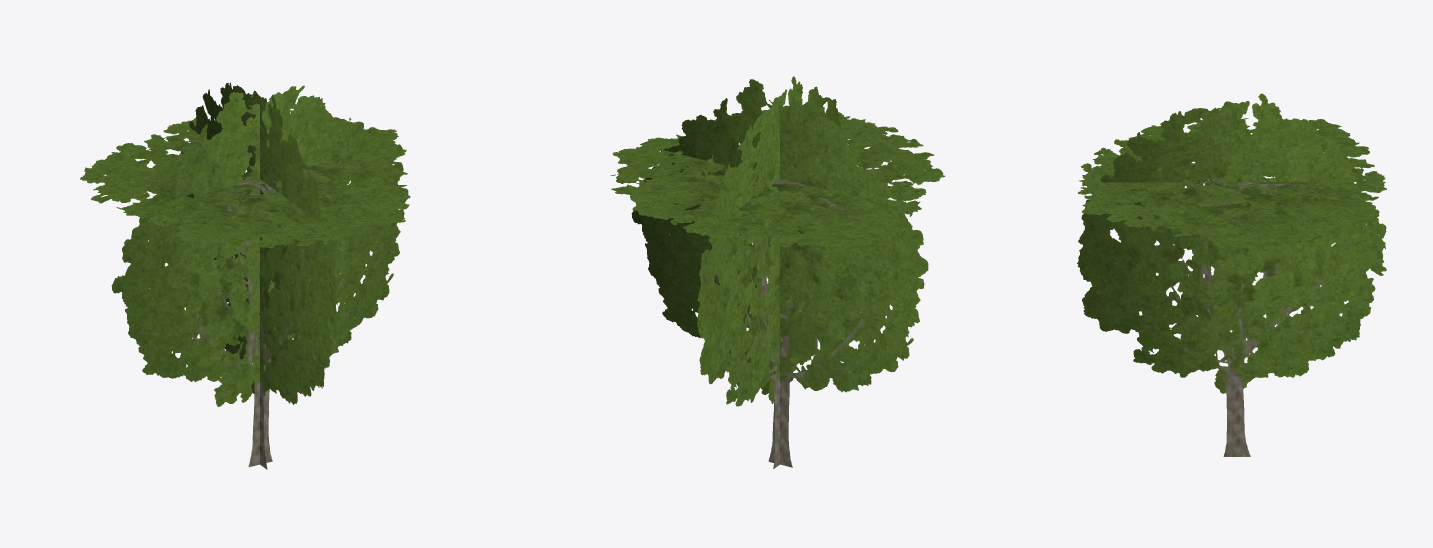
The model's file is arbre_feuillu_rond_lod2.glb.
The picture shows the model from 3 angles, left to right: view 1: azimuth 30°, elevation 25°; view 2: azimuth 150°, elevation 25°; view 3: azimuth 270°, elevation 25°; orthographic projection. The views are drawn at different scales.
Visible parts, largest first — view 1: arbre_feuillu_rond_lod2; view 2: arbre_feuillu_rond_lod2; view 3: arbre_feuillu_rond_lod2.
Boxes of the visible parts, x1=… form: arbre_feuillu_rond_lod2: x1=80, y1=82, x2=410, y2=469; arbre_feuillu_rond_lod2: x1=610, y1=76, x2=945, y2=468; arbre_feuillu_rond_lod2: x1=1077, y1=93, x2=1386, y2=456.
Bounding box in the file's own units: 10.09 × 11.19 × 10.09.
Materials: 1 (1 with a texture image).
